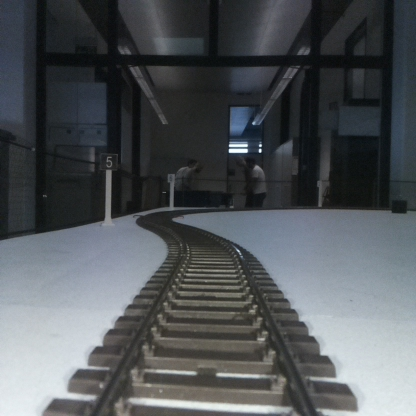black-info-5: (101, 154, 117, 225)
